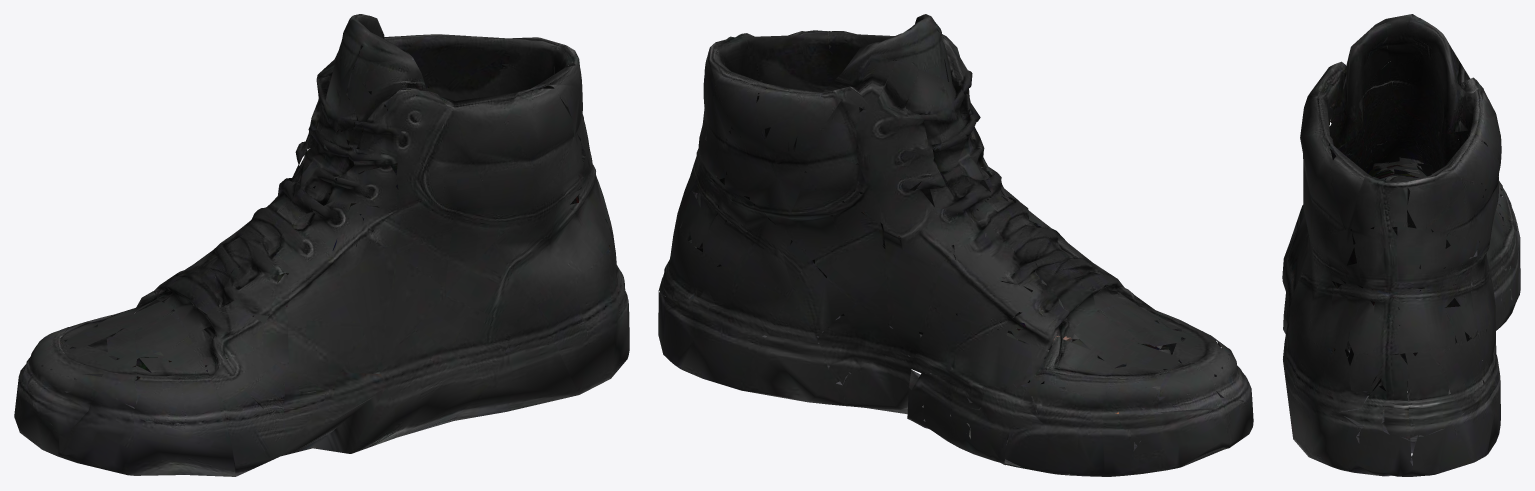
The model's file is sneaker.glb.
The picture shows the model from 3 angles, left to right: view 1: azimuth 30°, elevation 25°; view 2: azimuth 150°, elevation 25°; view 3: azimuth 270°, elevation 25°; orthographic projection. The views are drawn at different scales.
Visible parts, largest first — view 1: Object_4; view 2: Object_4; view 3: Object_4.
Part boxes in pixels (box(x1,y1,x2,y2)): Object_4: box(14, 14, 629, 476); Object_4: box(658, 14, 1253, 476); Object_4: box(1282, 14, 1520, 476).
Bounding box in the file's own units: 1.99 × 1.24 × 0.7463.
Materials: 1 (1 with a texture image).
